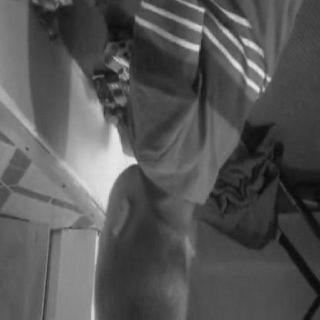other: (199, 152, 293, 256), (100, 24, 136, 84)
